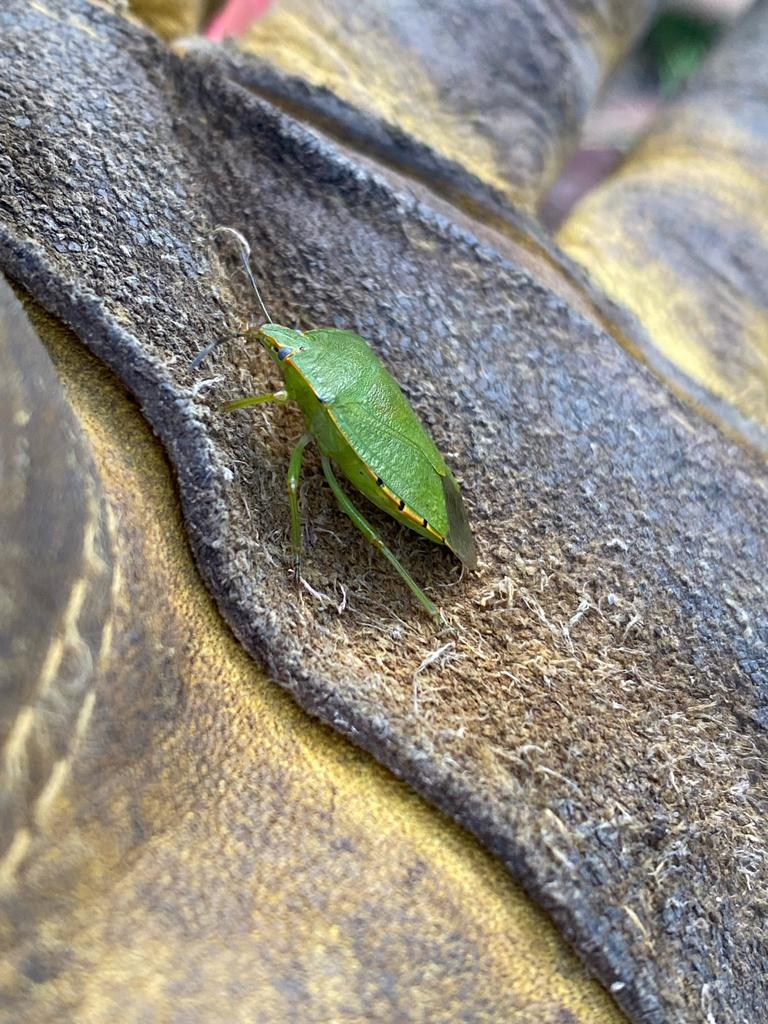stink_bugs: (132, 185, 560, 678)
